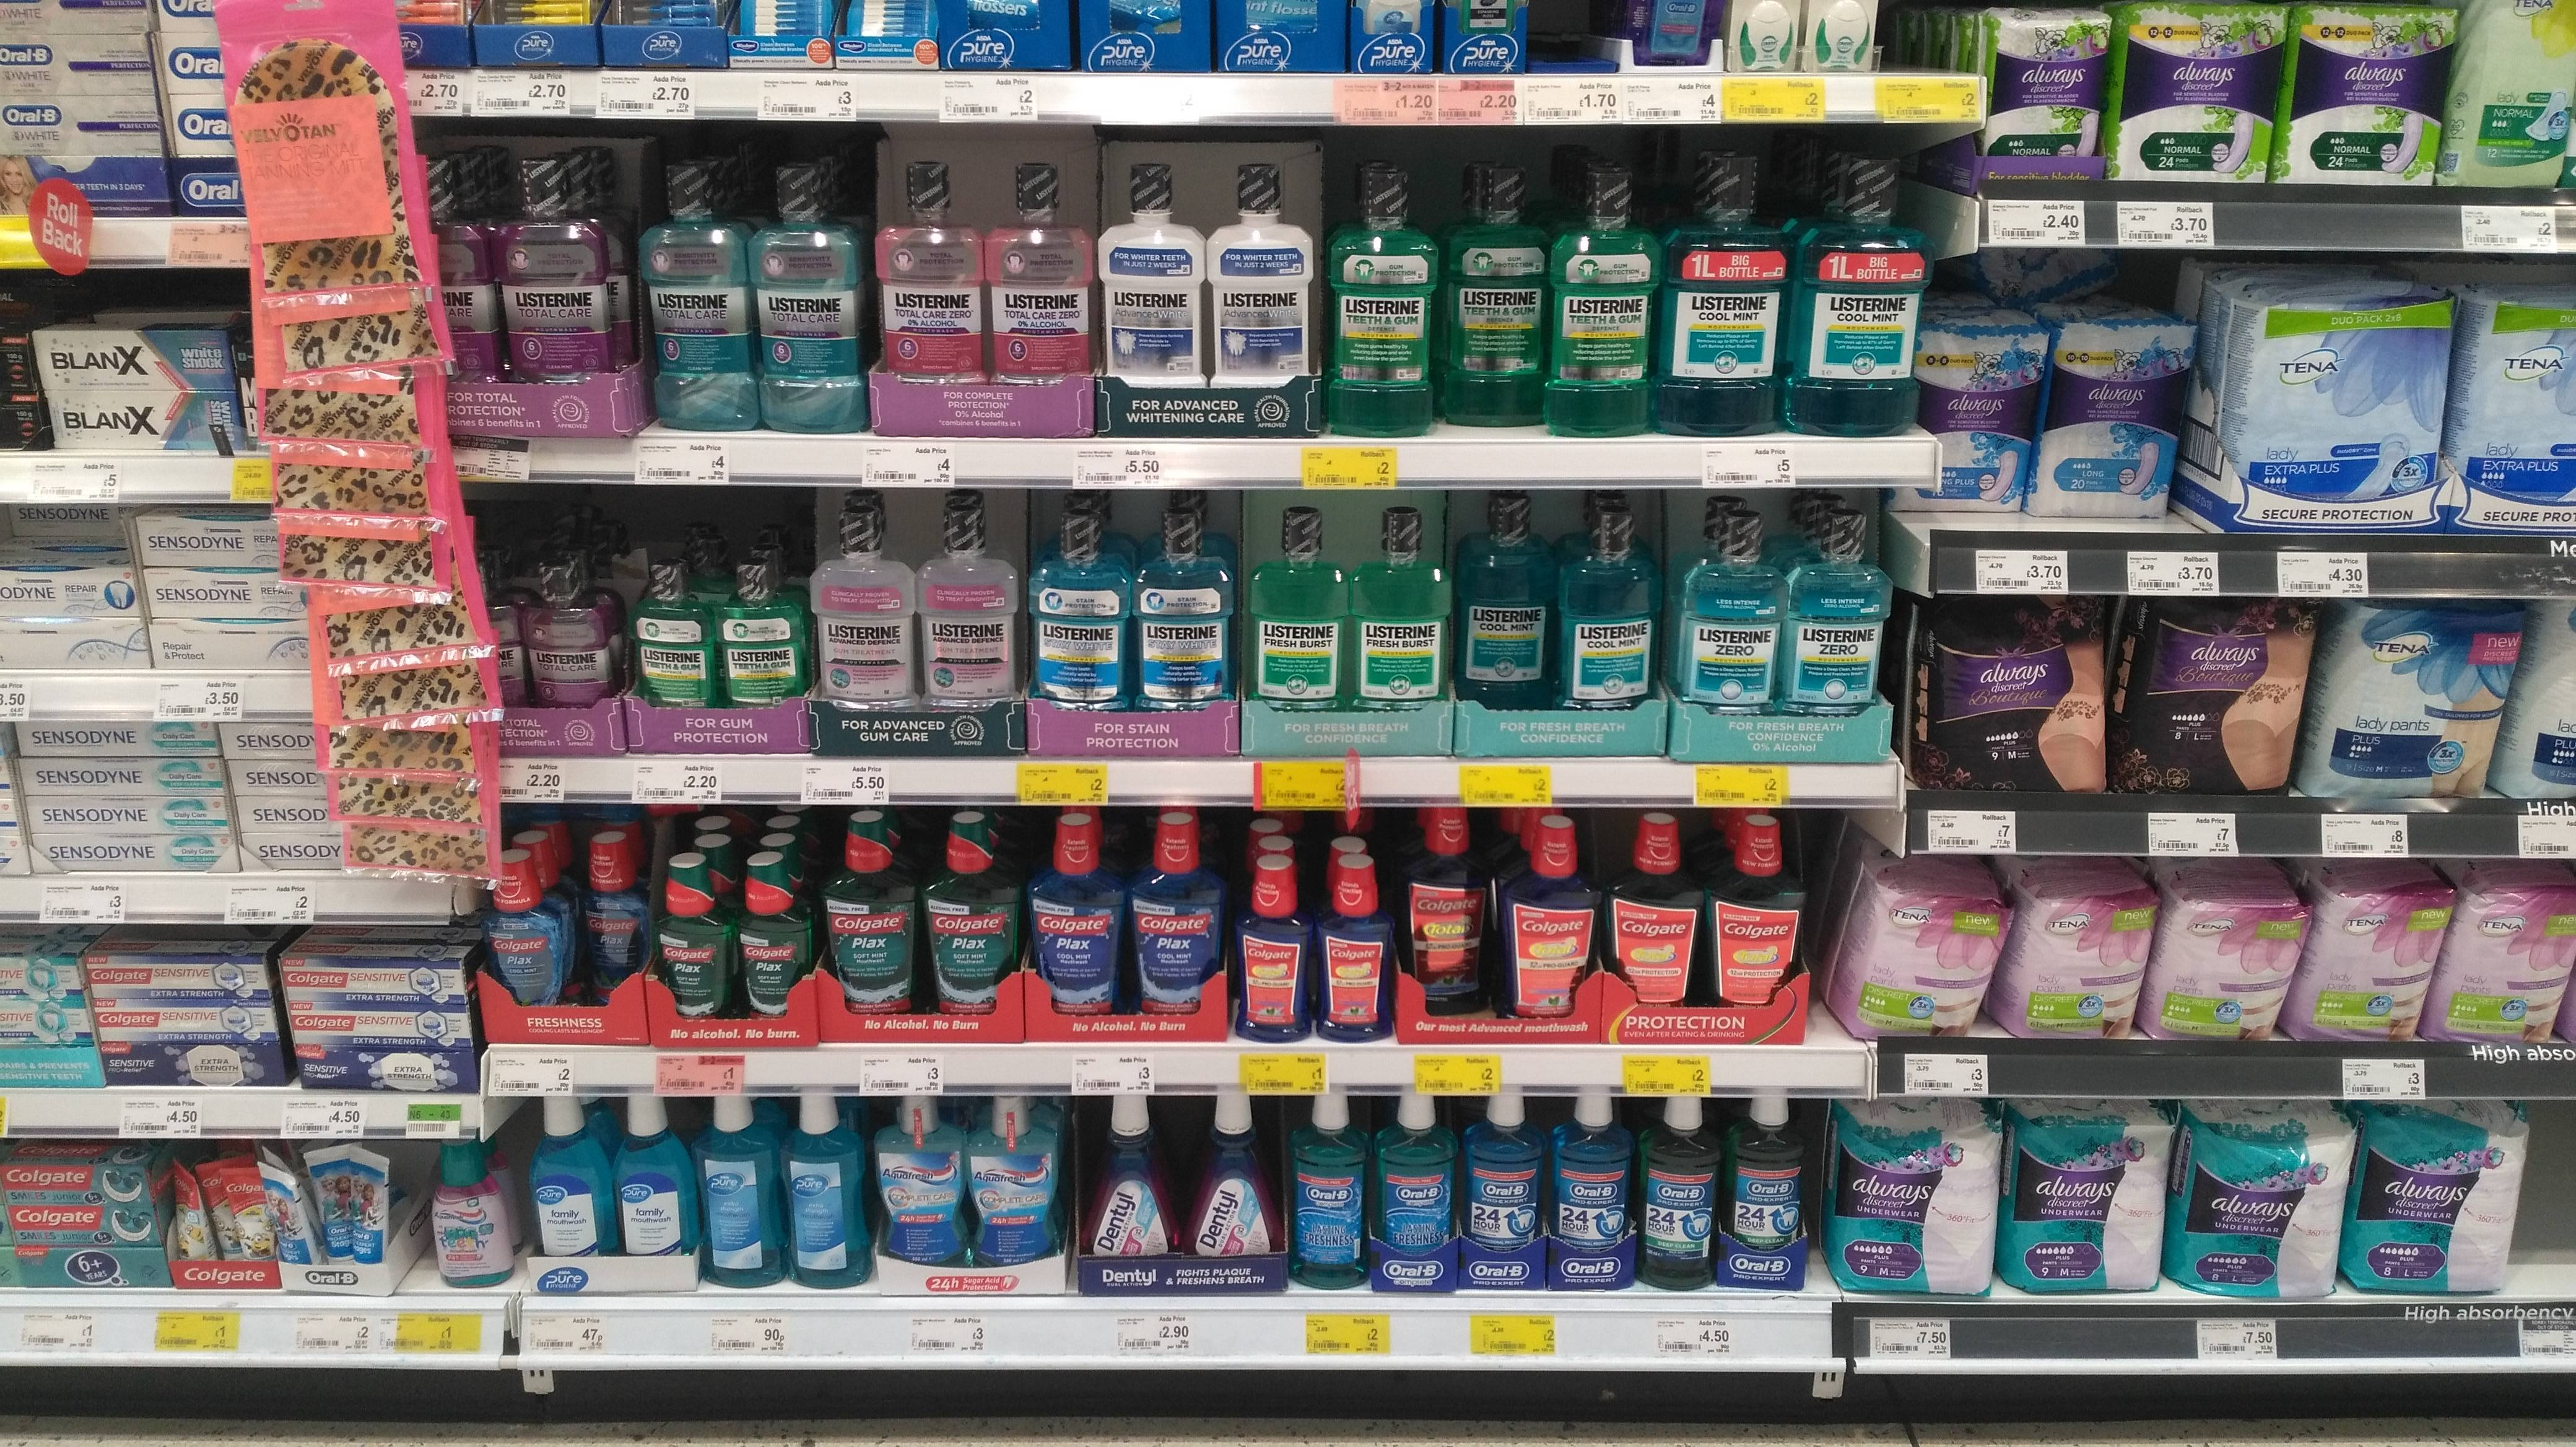Misplacement: (1442, 163, 1545, 442)
